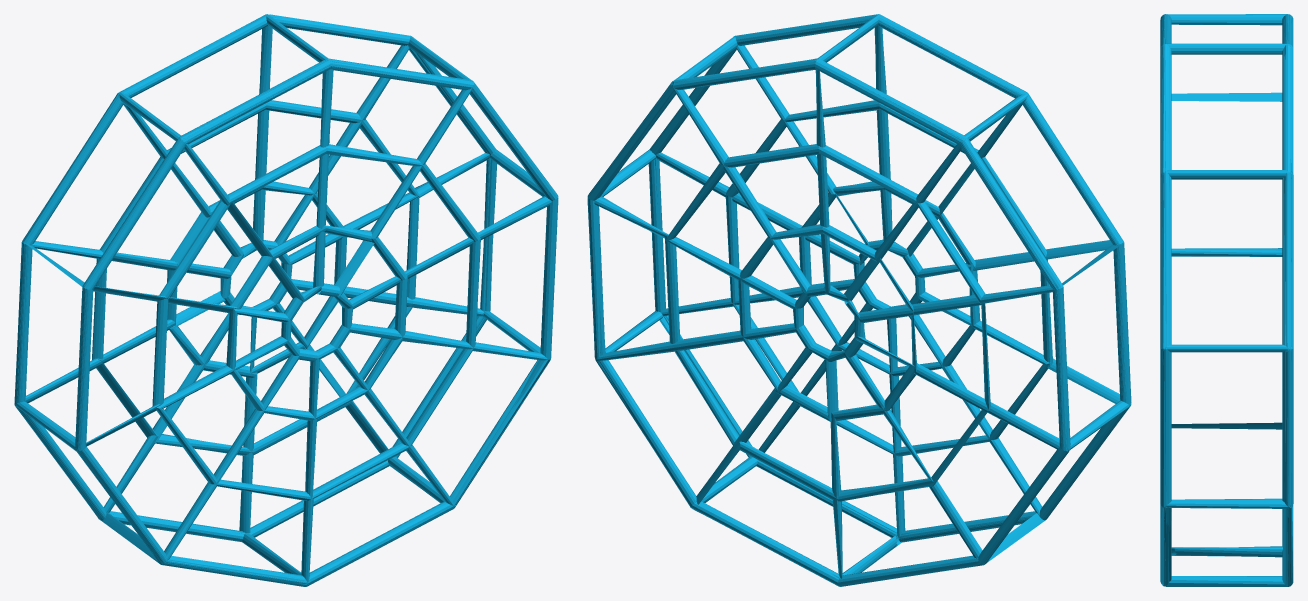
The model's file is ris.glb.
3 renders of one model, left to right at view 1: azimuth 30°, elevation 25°; view 2: azimuth 150°, elevation 25°; view 3: azimuth 270°, elevation 25°, orthographic.
Visible parts, largest first — view 1: Cylinder; view 2: Cylinder; view 3: Cylinder.
Part boxes in pixels (x1,y1,x2,y2): Cylinder: (14,14,558,586); Cylinder: (587,14,1131,586); Cylinder: (1160,14,1293,586).
Size of the model in its own units: 1.97 by 2.04 by 0.4689.
